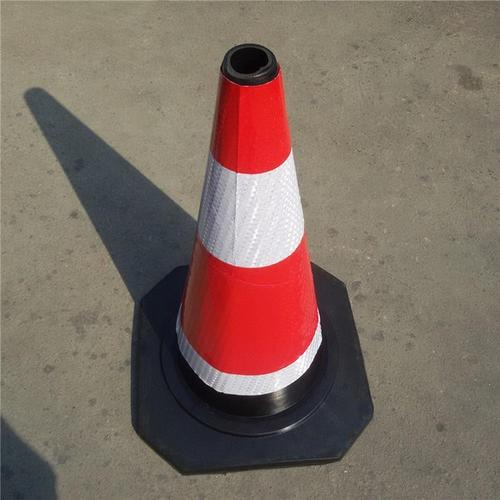cone_barrel: (161, 44, 348, 430)
